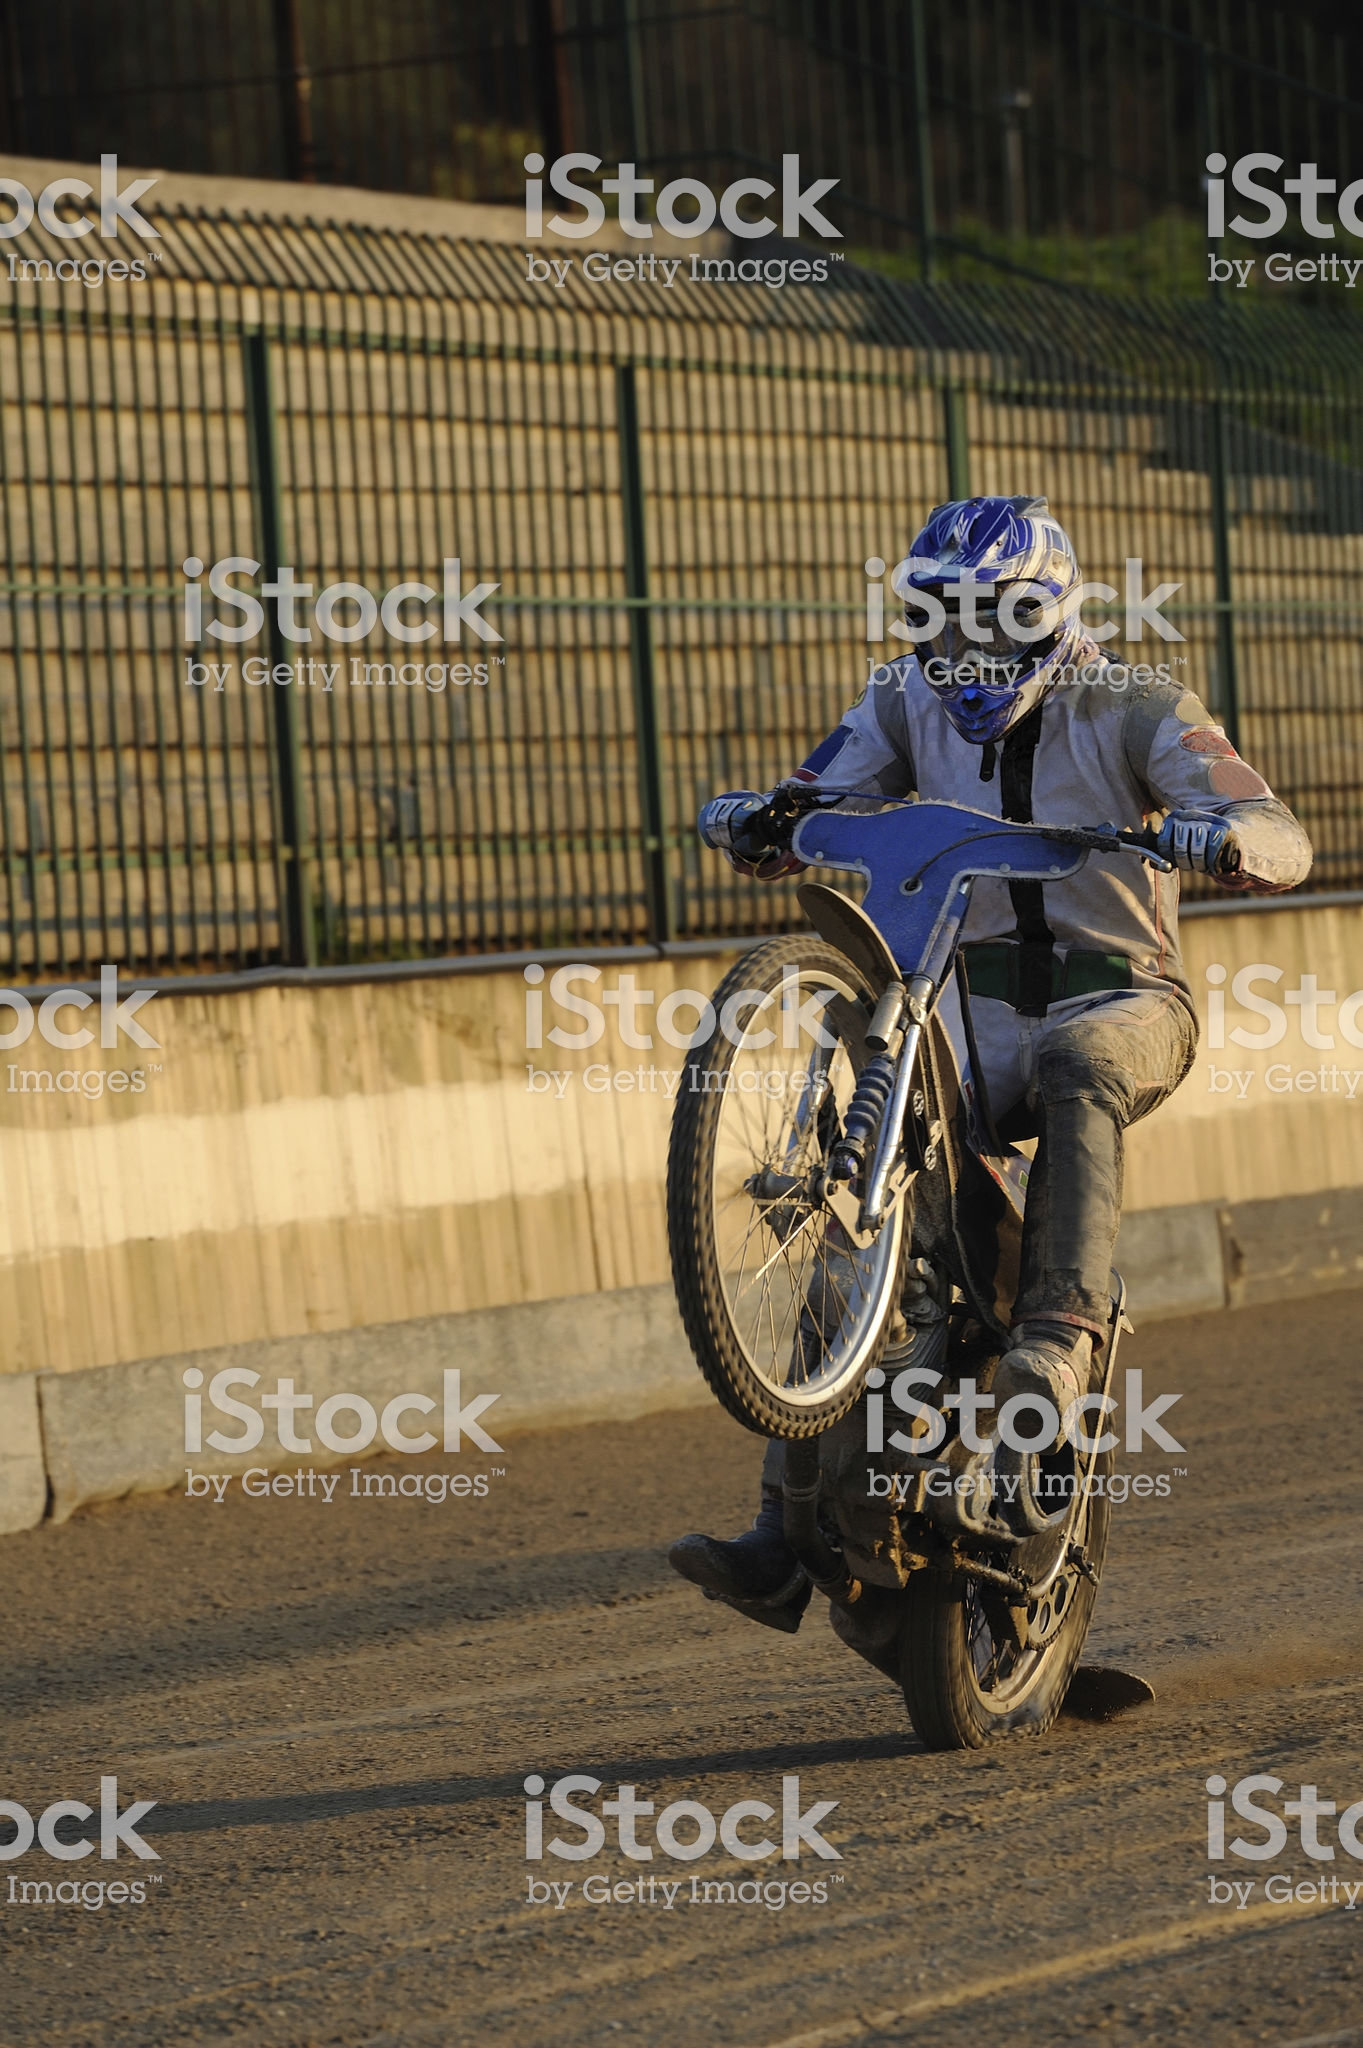helmet: (863, 515, 1126, 747)
